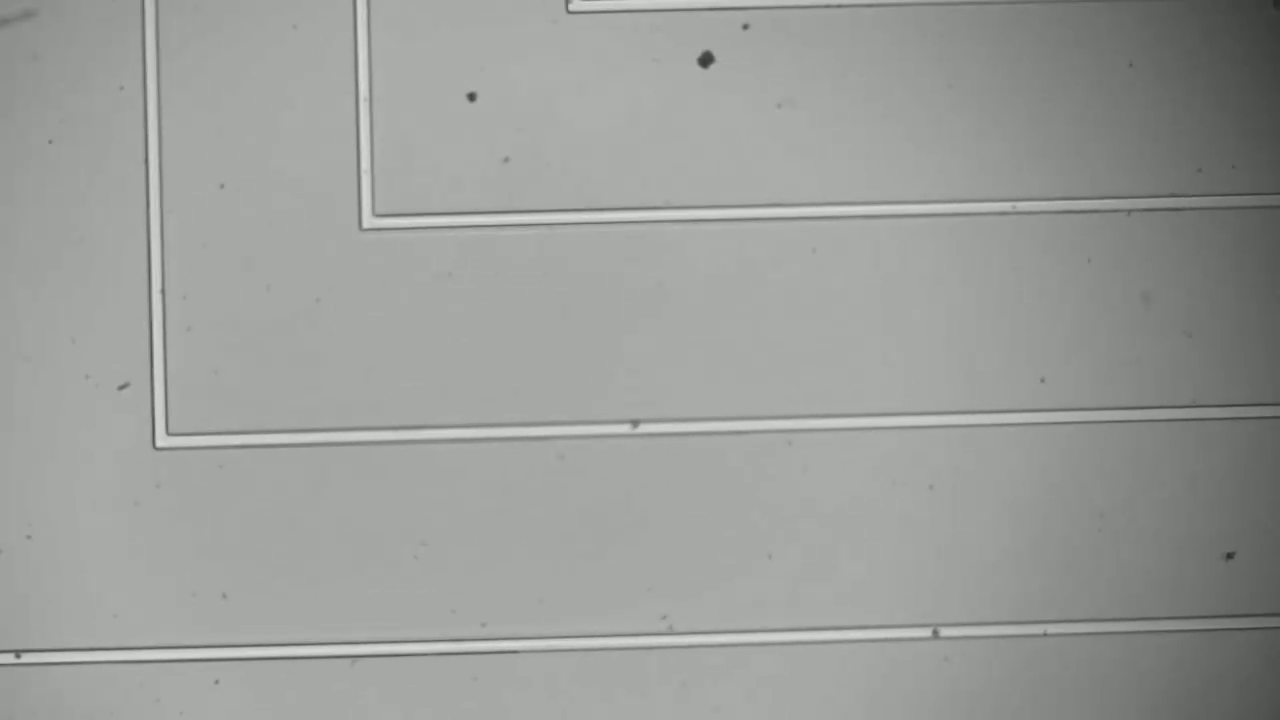stains_enbedded: (622, 409, 654, 444), (6, 641, 31, 674), (923, 621, 945, 647)
